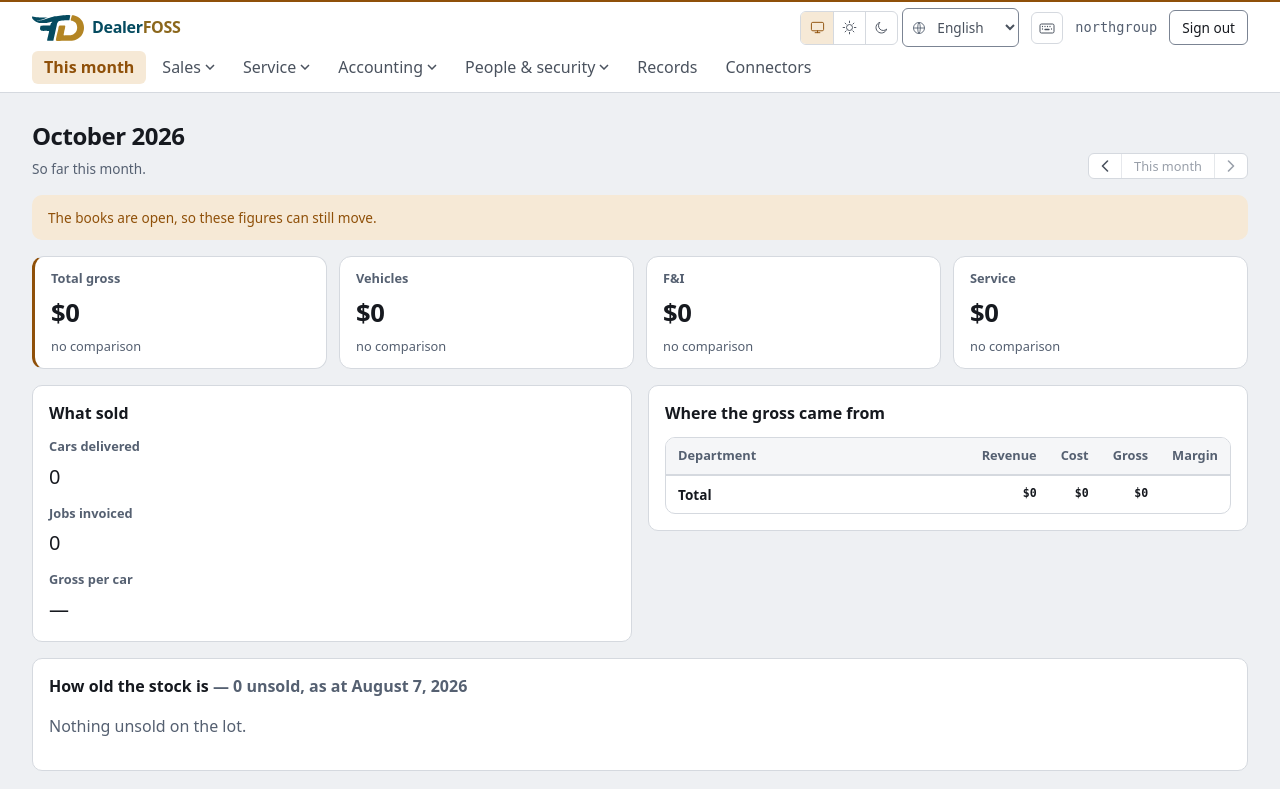
Test: the application shell › moves between screens when the navigation is used
The image size is (1280, 789).
Expected: the text "So far this month." is shown, x1=32 y1=159 x2=146 y2=178
Click the button "Accounting" at [388, 67], box x1=326 y1=51 x2=449 y2=84
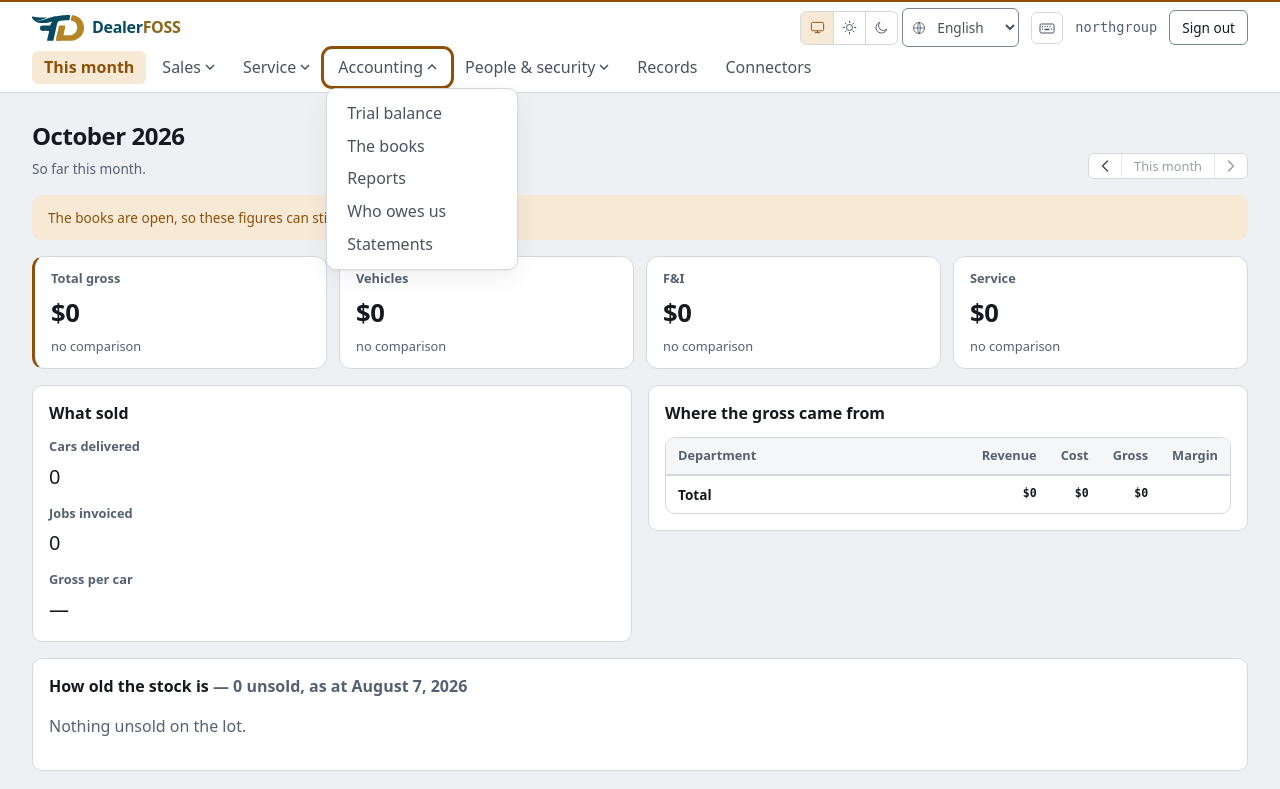
Click the link "Trial balance" at [395, 113], box x1=347 y1=102 x2=442 y2=124
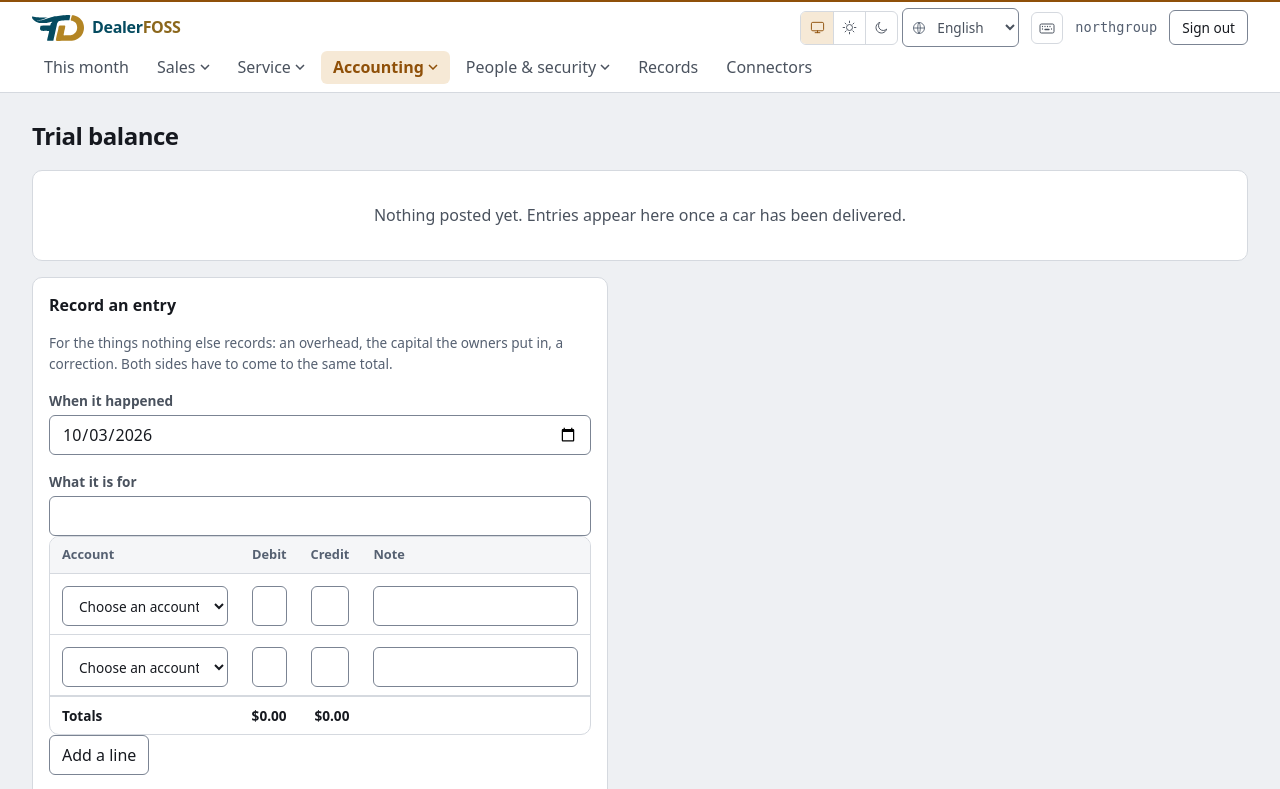
Expected: the heading "Trial balance" is shown, x1=32 y1=117 x2=178 y2=154
